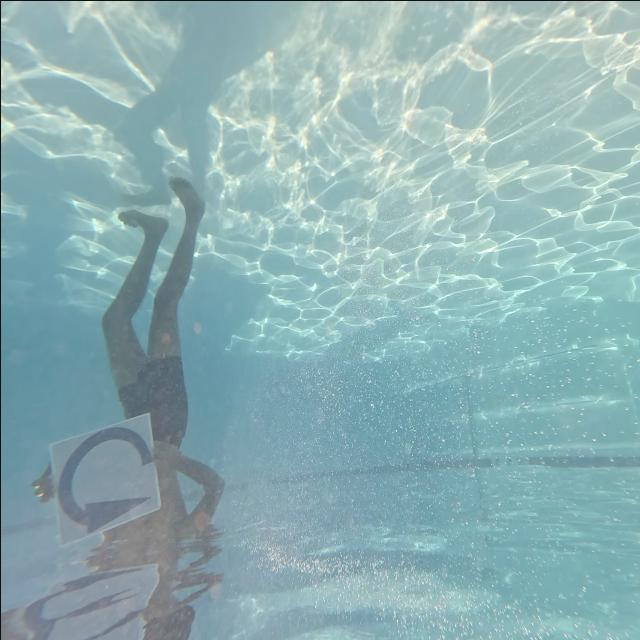blue_side: (41, 404, 168, 555)
